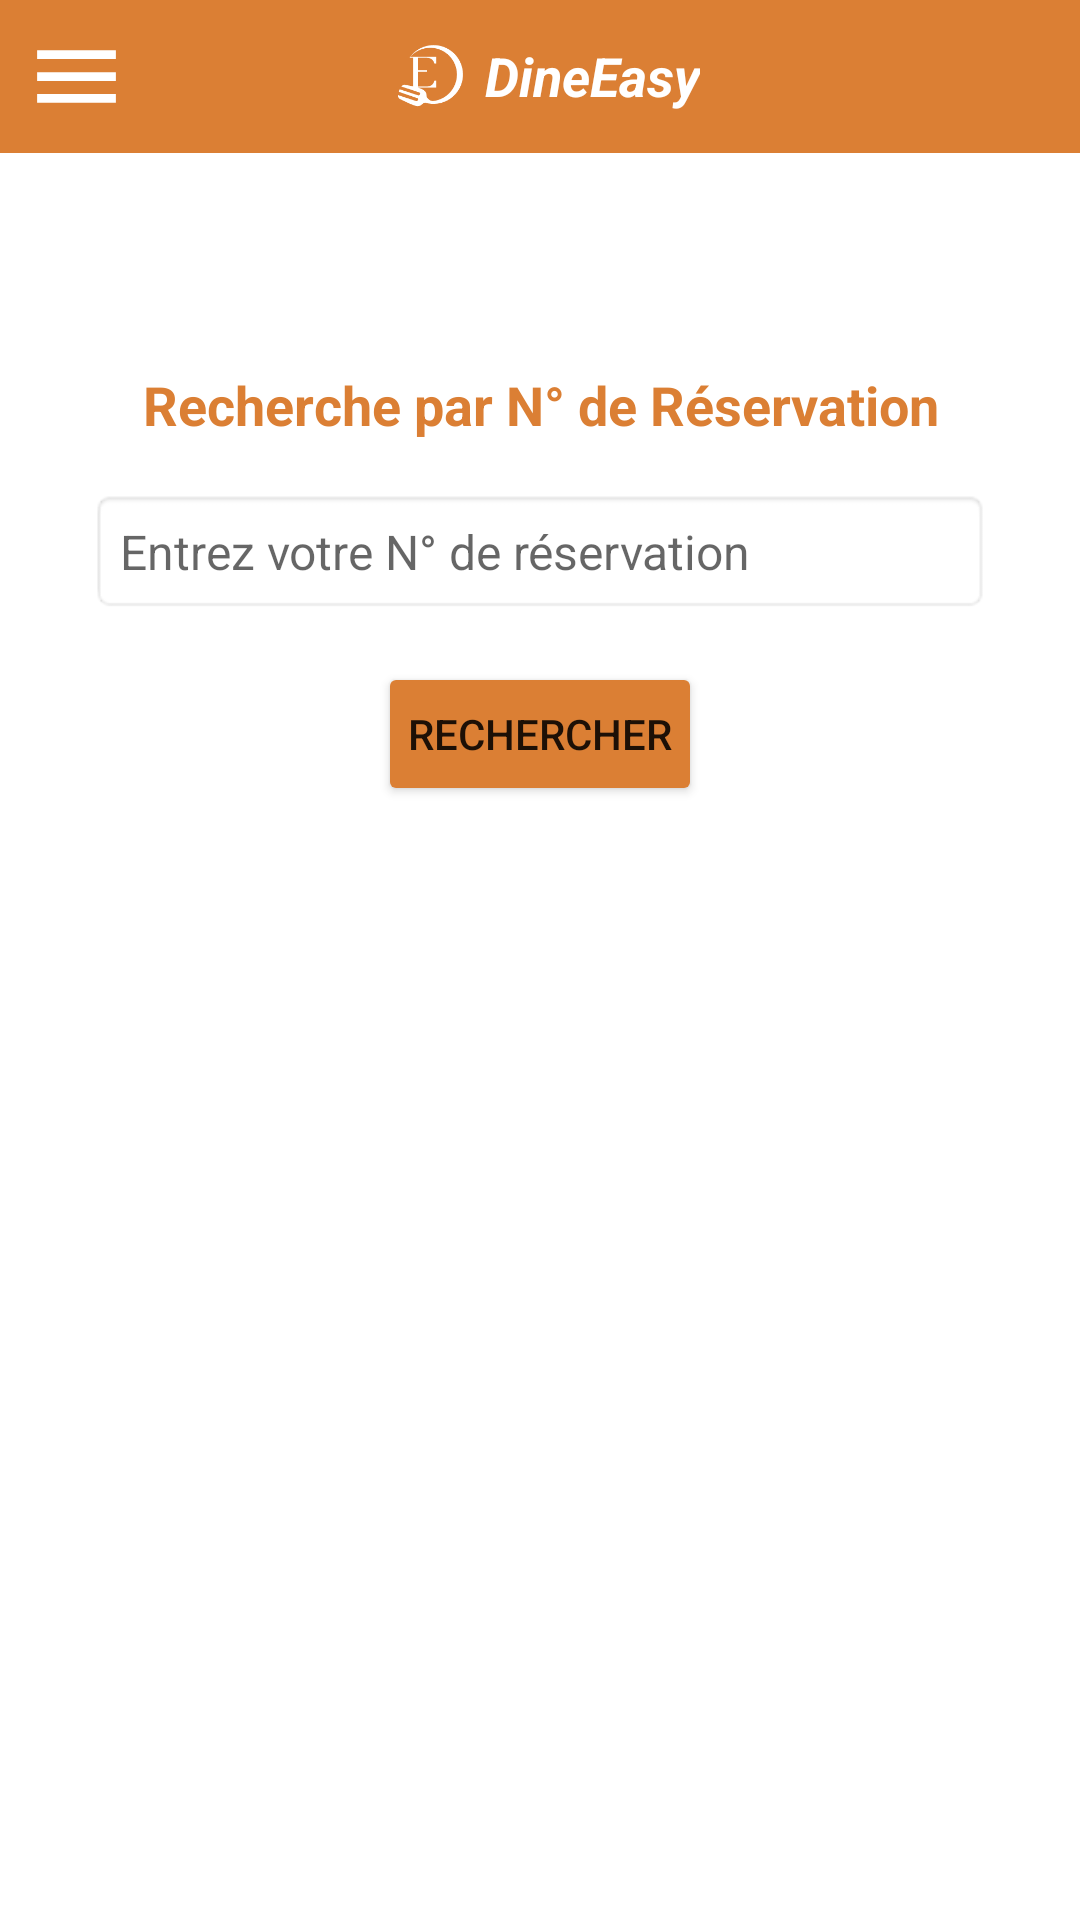

Locate icon controls on the screen. Image size 1080px×1920px, boxes as Rect(x1, y1, x2, y2).
Menu: Rect(37, 50, 116, 103)
